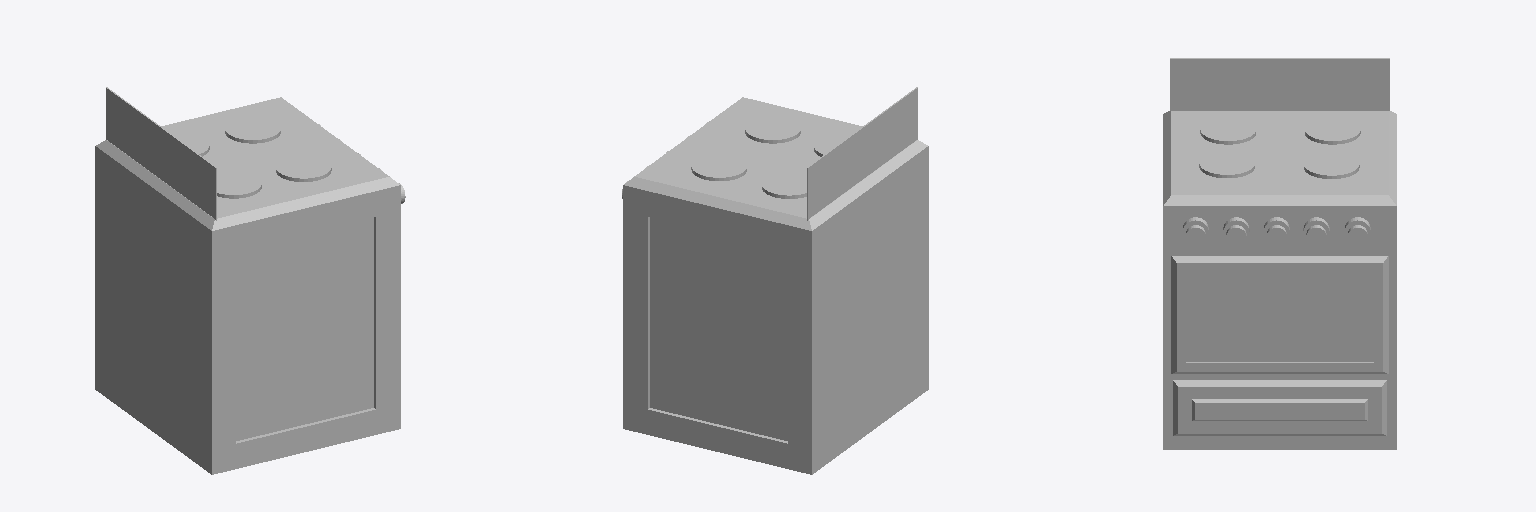
Rendered from cooktop.obj.
3 views of the same model, side by side, from view 1: azimuth 30°, elevation 25°; view 2: azimuth 150°, elevation 25°; view 3: azimuth 270°, elevation 25° (orthographic).
Parts seen in each view (by area): view 1: base, cristal, Cilindro.8, Cilindro.6, Cilindro.3; view 2: base, cristal, Cilindro.6, Cilindro.8, Cilindro.7; view 3: base, puerta_baja, cristal, Cilindro.8, Cilindro.3, Cilindro.7, Cilindro.6, Cilindro.1, Cilindro.5, Cilindro.2, Cilindro.4, Cilindro.
Part boxes in pixels (bbox=[...]): base: bbox=[95, 97, 400, 474]; cristal: bbox=[106, 87, 216, 220]; Cilindro.8: bbox=[225, 116, 280, 143]; Cilindro.6: bbox=[276, 155, 331, 181]; Cilindro.3: bbox=[217, 171, 261, 198]; base: bbox=[623, 97, 928, 474]; cristal: bbox=[807, 87, 917, 220]; Cilindro.6: bbox=[745, 116, 800, 143]; Cilindro.8: bbox=[691, 154, 746, 180]; Cilindro.7: bbox=[762, 172, 806, 198]; base: bbox=[1163, 111, 1396, 449]; puerta_baja: bbox=[1173, 380, 1386, 435]; cristal: bbox=[1170, 58, 1389, 110]; Cilindro.8: bbox=[1304, 152, 1359, 178]; Cilindro.3: bbox=[1200, 117, 1255, 144]; Cilindro.7: bbox=[1305, 117, 1360, 144]; Cilindro.6: bbox=[1199, 151, 1254, 177]; Cilindro.1: bbox=[1223, 217, 1249, 246]; Cilindro.5: bbox=[1345, 217, 1370, 246]; Cilindro.2: bbox=[1264, 217, 1289, 246]; Cilindro.4: bbox=[1303, 217, 1329, 246]; Cilindro: bbox=[1183, 217, 1208, 246].
Bounding box in the file's own units: 151 × 214 × 149.